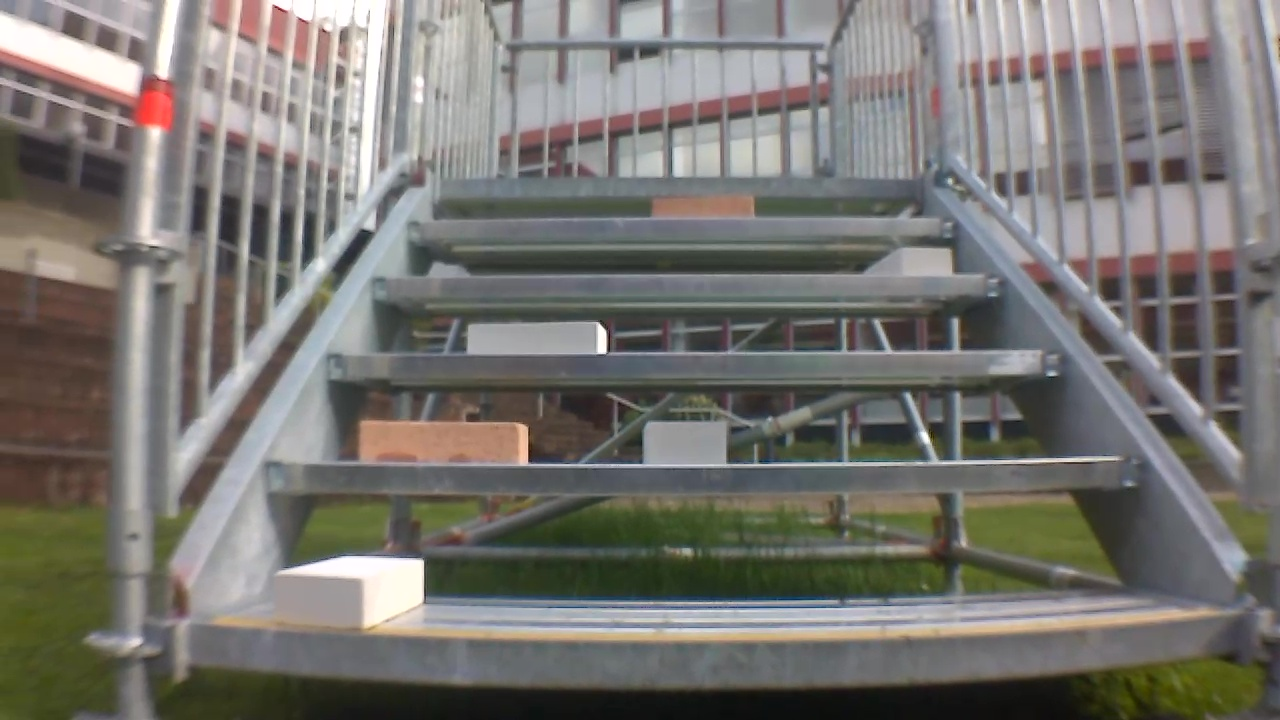brick: (274, 558, 423, 629), (359, 421, 528, 465), (468, 322, 607, 353), (643, 422, 726, 465), (652, 195, 753, 218), (870, 248, 952, 274)
edge: (191, 622, 1230, 686), (270, 457, 1138, 491), (327, 349, 1068, 380), (375, 273, 1010, 297), (411, 218, 955, 236), (443, 177, 921, 197)
stairs: (113, 1, 1273, 717)
steps: (184, 169, 1251, 702)
